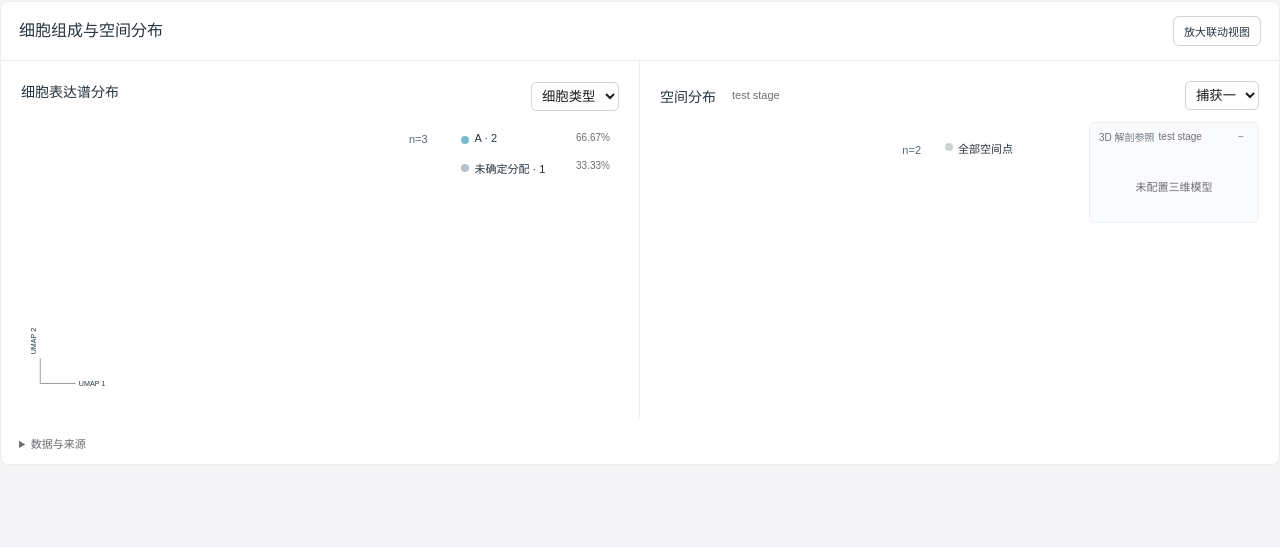
it: missing_mapping_does_not_display_a_zero_spatial_measurement
The width and height of the screenshot is (1280, 547).
Click the button "A · 2 66.67%".
click(535, 138)  # box [454, 125, 617, 151]
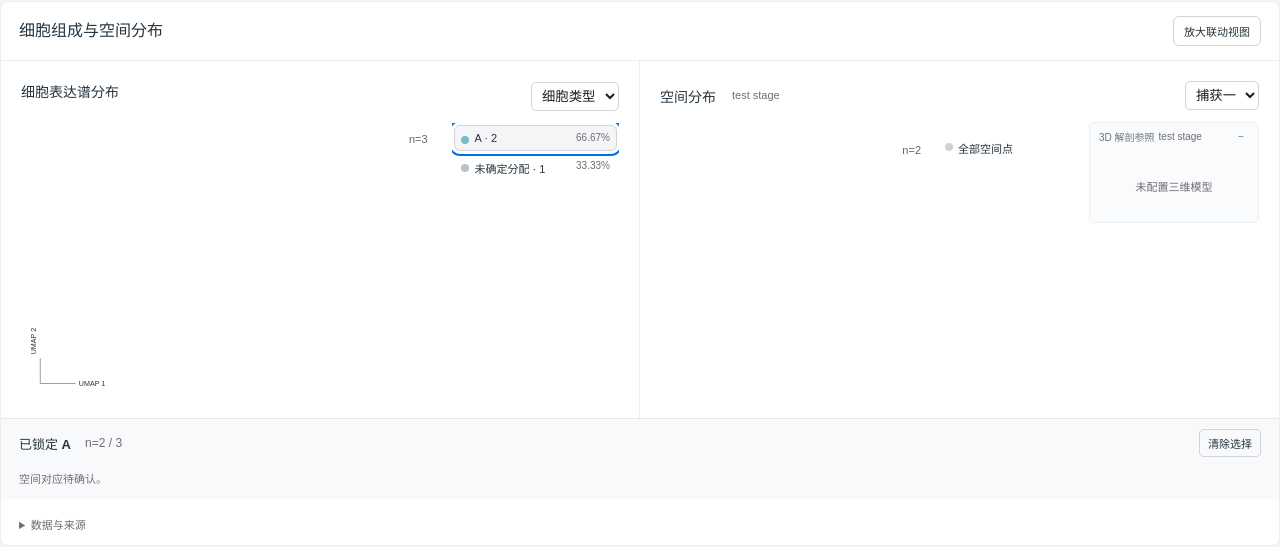
Expected: the text with test id "spatial-count" reads "n=2", [898, 142, 925, 159]
Expected: the text "空间对应待确认。" is shown, [19, 473, 107, 485]
